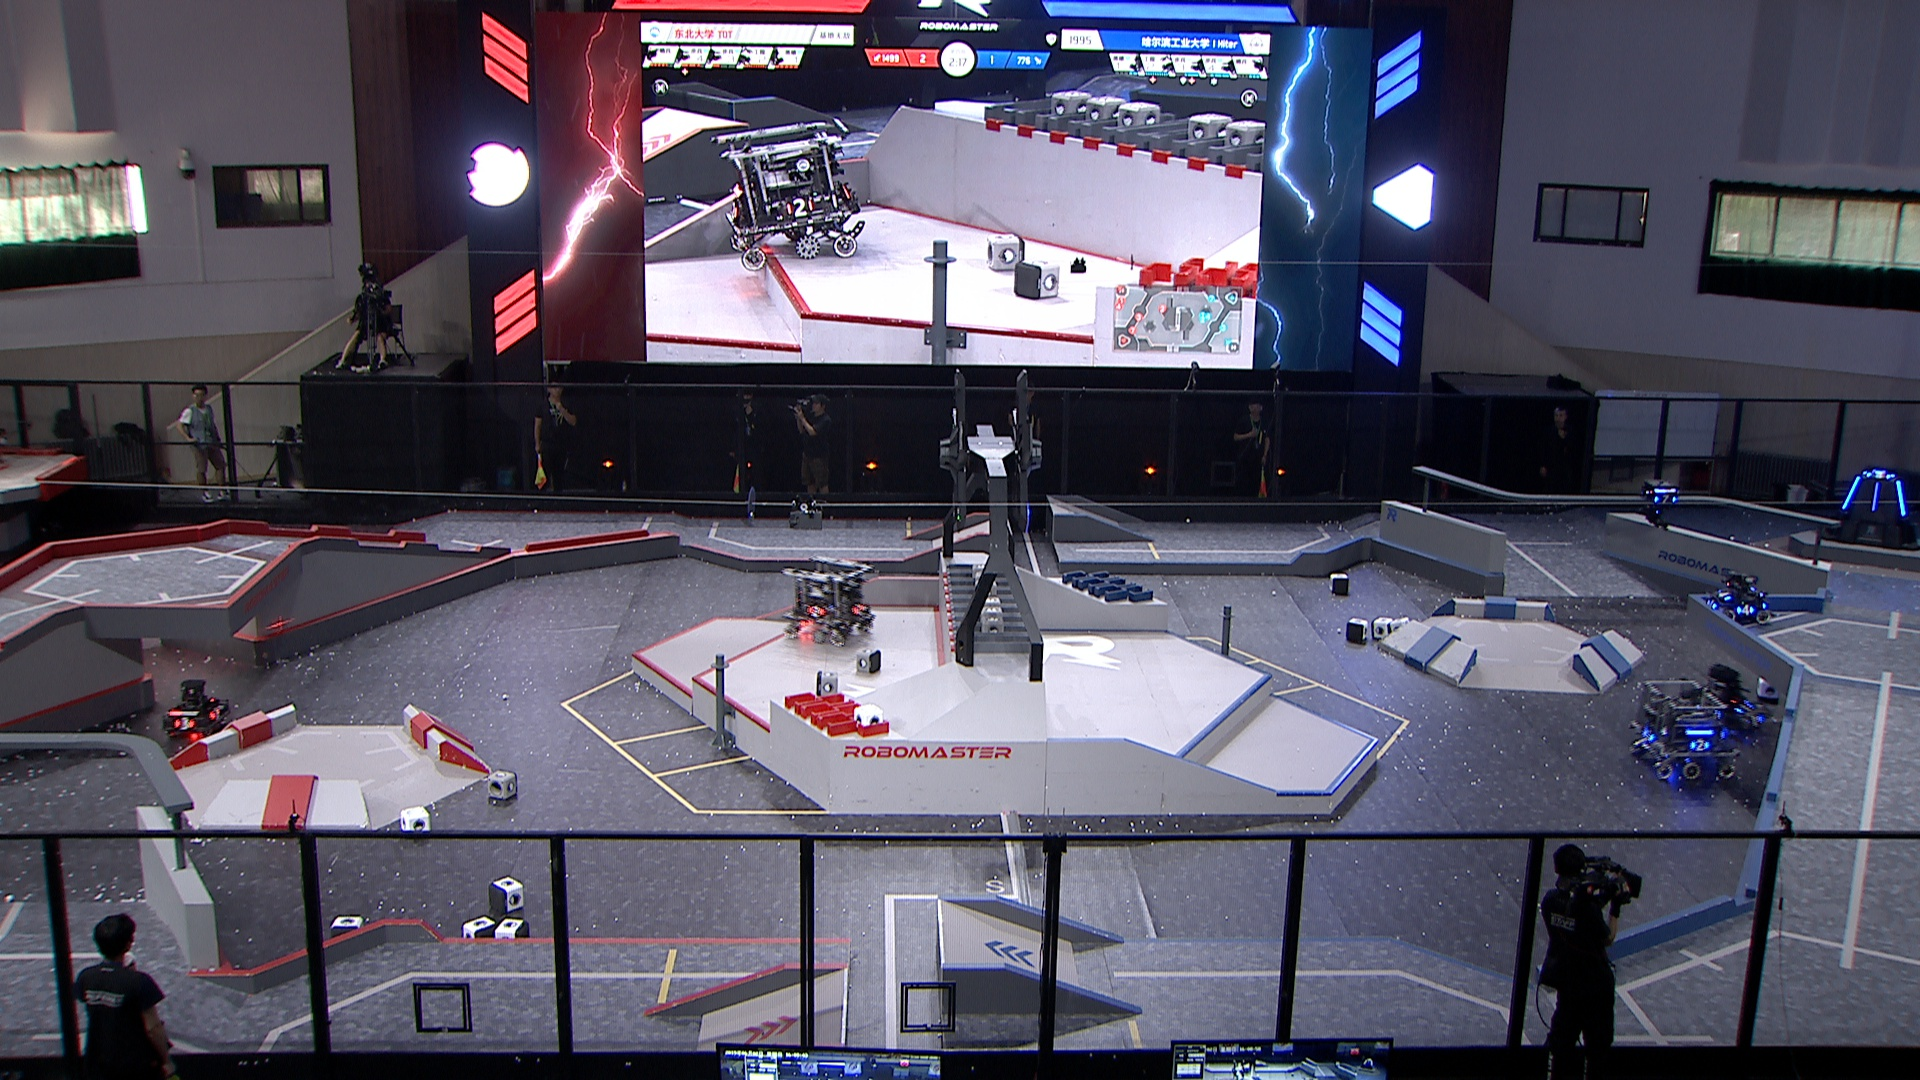armor: (1841, 475, 1863, 512), (1894, 477, 1909, 518), (1869, 480, 1882, 514), (1733, 698, 1755, 716), (1687, 738, 1712, 754), (171, 716, 195, 732), (1638, 727, 1656, 746), (1865, 469, 1894, 481), (807, 603, 825, 621), (1745, 713, 1764, 728), (1735, 603, 1755, 617), (1654, 495, 1677, 506), (1714, 588, 1731, 603), (851, 603, 865, 618), (210, 705, 224, 721), (1702, 597, 1720, 609)
base: (1820, 469, 1920, 553)
car: (1631, 678, 1746, 785), (782, 555, 876, 645), (1697, 662, 1770, 737), (161, 675, 229, 740), (1702, 572, 1774, 624)
ignore: (712, 116, 860, 268)
watcher: (1636, 476, 1683, 531)
